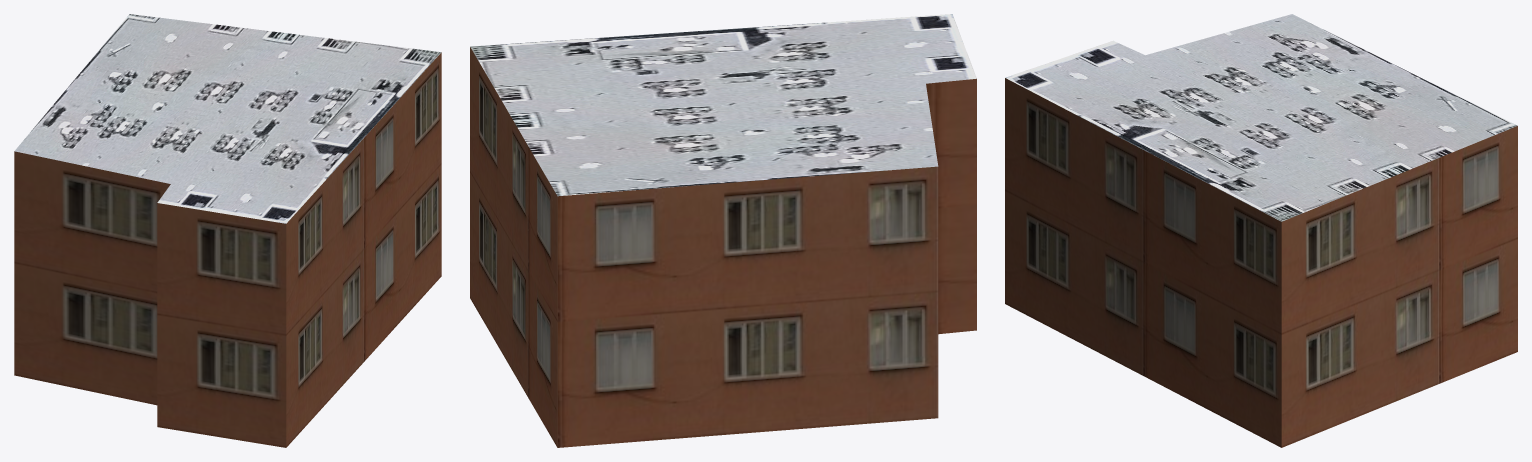
File: ResTex__1445.fbx
3 renders of one model, left to right at view 1: azimuth 30°, elevation 25°; view 2: azimuth 150°, elevation 25°; view 3: azimuth 270°, elevation 25°, orthographic. The views are drawn at different scales.
Parts seen in each view (by area): view 1: CityEngineMaterial_20_m, CityEngineMaterial_4_m; view 2: CityEngineMaterial_20_m, CityEngineMaterial_4_m; view 3: CityEngineMaterial_20_m, CityEngineMaterial_4_m.
Boxes of the visible parts, left/top/right/bottom form: CityEngineMaterial_20_m: left=14, top=52, right=441, bottom=447; CityEngineMaterial_4_m: left=14, top=14, right=441, bottom=223; CityEngineMaterial_20_m: left=470, top=47, right=976, bottom=447; CityEngineMaterial_4_m: left=470, top=14, right=976, bottom=196; CityEngineMaterial_20_m: left=1005, top=78, right=1517, bottom=447; CityEngineMaterial_4_m: left=1005, top=14, right=1517, bottom=221.
Size of the model in its own units: 11.83 by 6 by 12.34.
2 materials, 2 textured.
